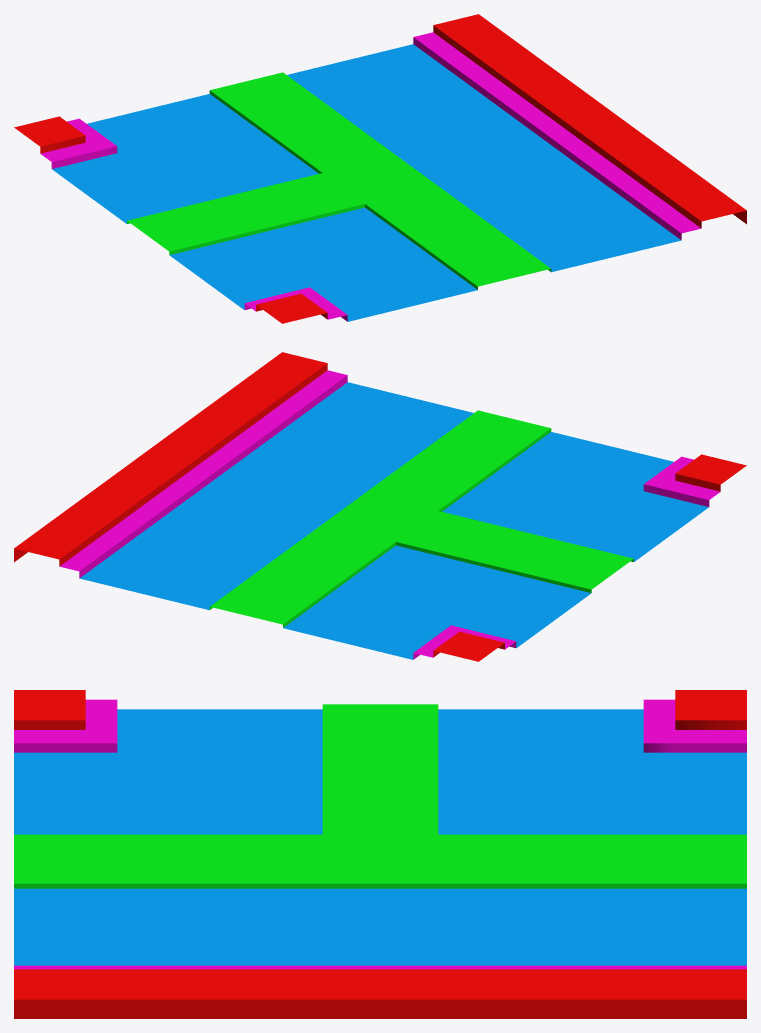
The model's file is FloorBifurcation.fbx.
3 views of the same model, one above another, from view 1: azimuth 30°, elevation 25°; view 2: azimuth 150°, elevation 25°; view 3: azimuth 270°, elevation 25° (orthographic). The views are drawn at different scales.
Parts seen in each view (by area): view 1: Bifurcation; view 2: Bifurcation; view 3: Bifurcation.
Part boxes in pixels (<box>): Bifurcation: <box>14,14,746,323</box>; Bifurcation: <box>14,352,746,661</box>; Bifurcation: <box>14,690,746,1018</box>.
Size of the model in its own units: 78.74 by 2.28 by 78.74.
